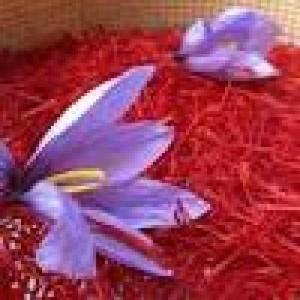Saffron: (0, 64, 211, 281), (172, 9, 291, 82)
